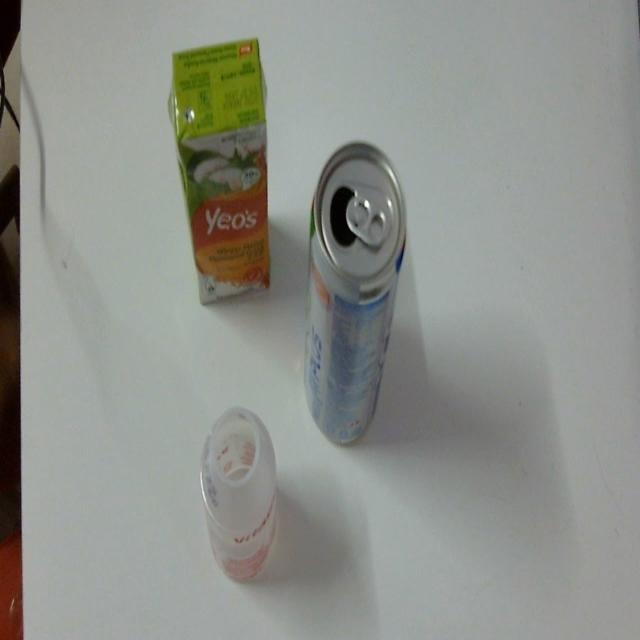metal_standrotation: (301, 128, 409, 458)
plastic_standrotation: (160, 34, 283, 308), (184, 390, 295, 582)
